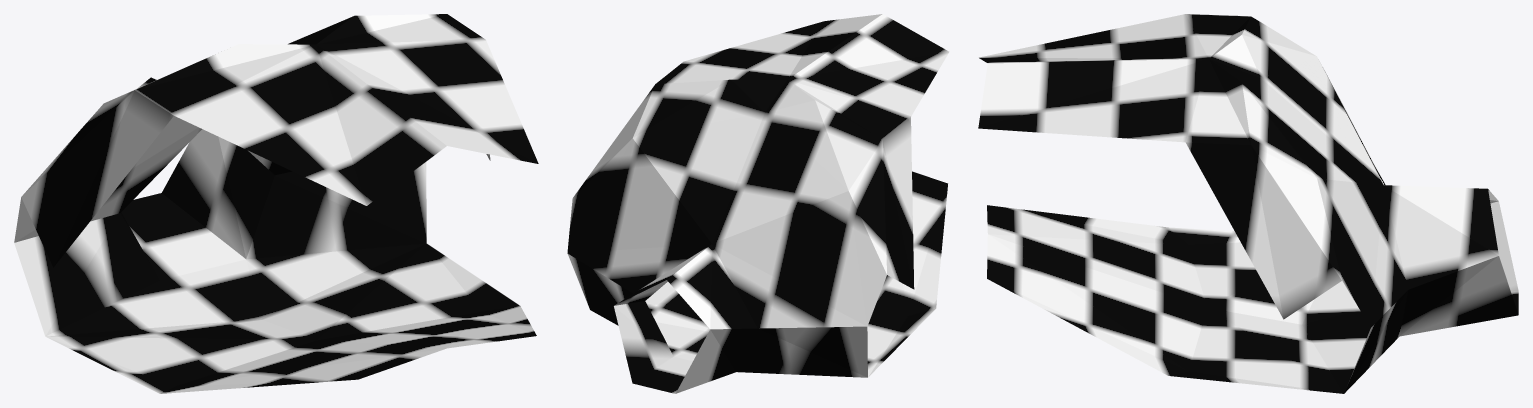
The model's file is initarsh0.dae.
3 views of the same model, side by side, from view 1: azimuth 30°, elevation 25°; view 2: azimuth 150°, elevation 25°; view 3: azimuth 270°, elevation 25° (orthographic). The views are drawn at different scales.
Visible parts, largest first — view 1: armor; view 2: armor; view 3: armor.
Boxes of the visible parts, bbox=[...] form: armor: bbox=[14, 14, 538, 393]; armor: bbox=[567, 14, 949, 393]; armor: bbox=[978, 14, 1518, 393].
Size of the model in its own units: 1.85 by 2.35 by 1.28.
Materials: 1 (1 with a texture image).
